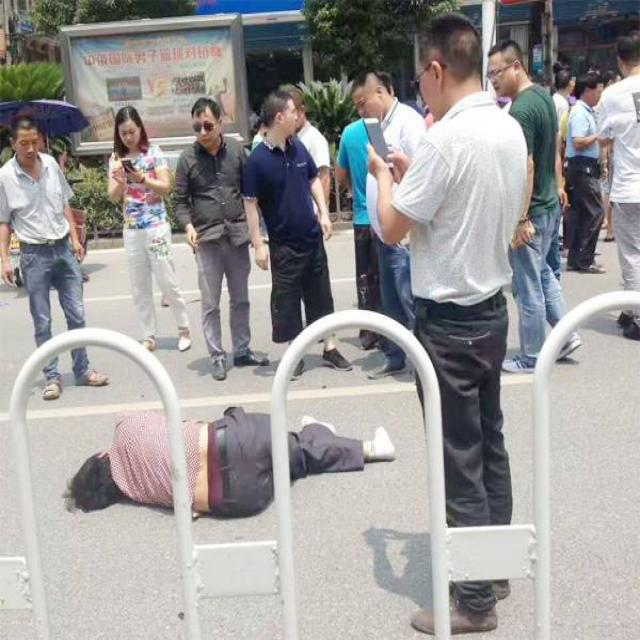10-: (0, 20, 639, 624)
down: (52, 402, 400, 526)
